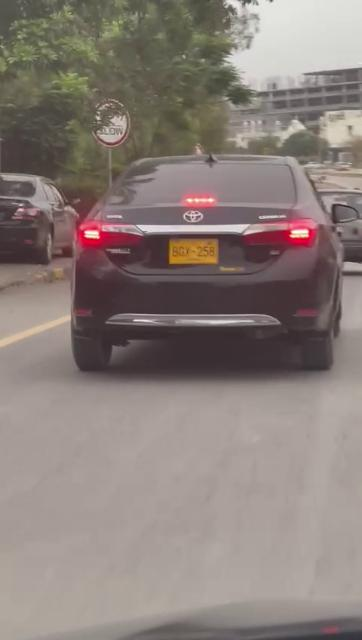plate: (166, 239, 224, 265)
